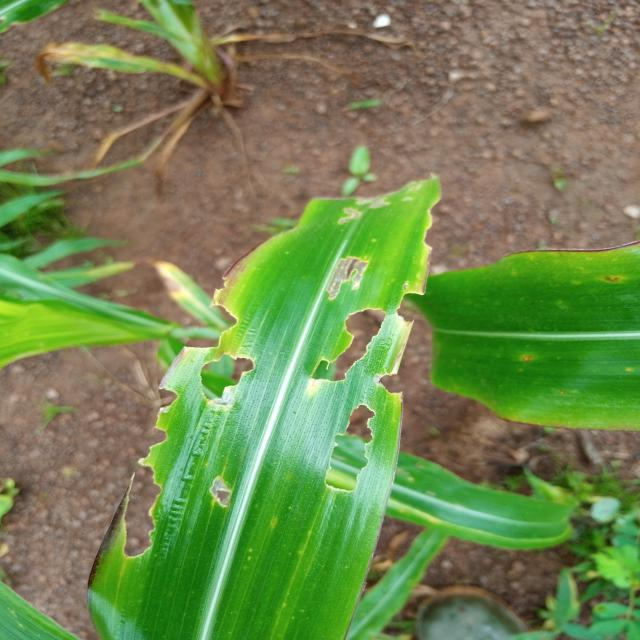fall-armyworm-larval-damage: (139, 290, 257, 442), (289, 298, 453, 388), (86, 452, 202, 579), (327, 405, 400, 522), (404, 186, 464, 264), (190, 476, 250, 531), (318, 246, 379, 299)
